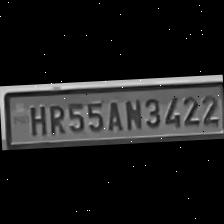2: (179, 93, 199, 127), (198, 92, 218, 126)
3: (141, 94, 161, 128)
4: (160, 92, 180, 128)
5: (84, 99, 104, 133), (64, 100, 84, 132)
A: (102, 98, 122, 132)
H: (24, 102, 46, 136)
N: (120, 96, 142, 130)
R: (44, 100, 64, 136)
